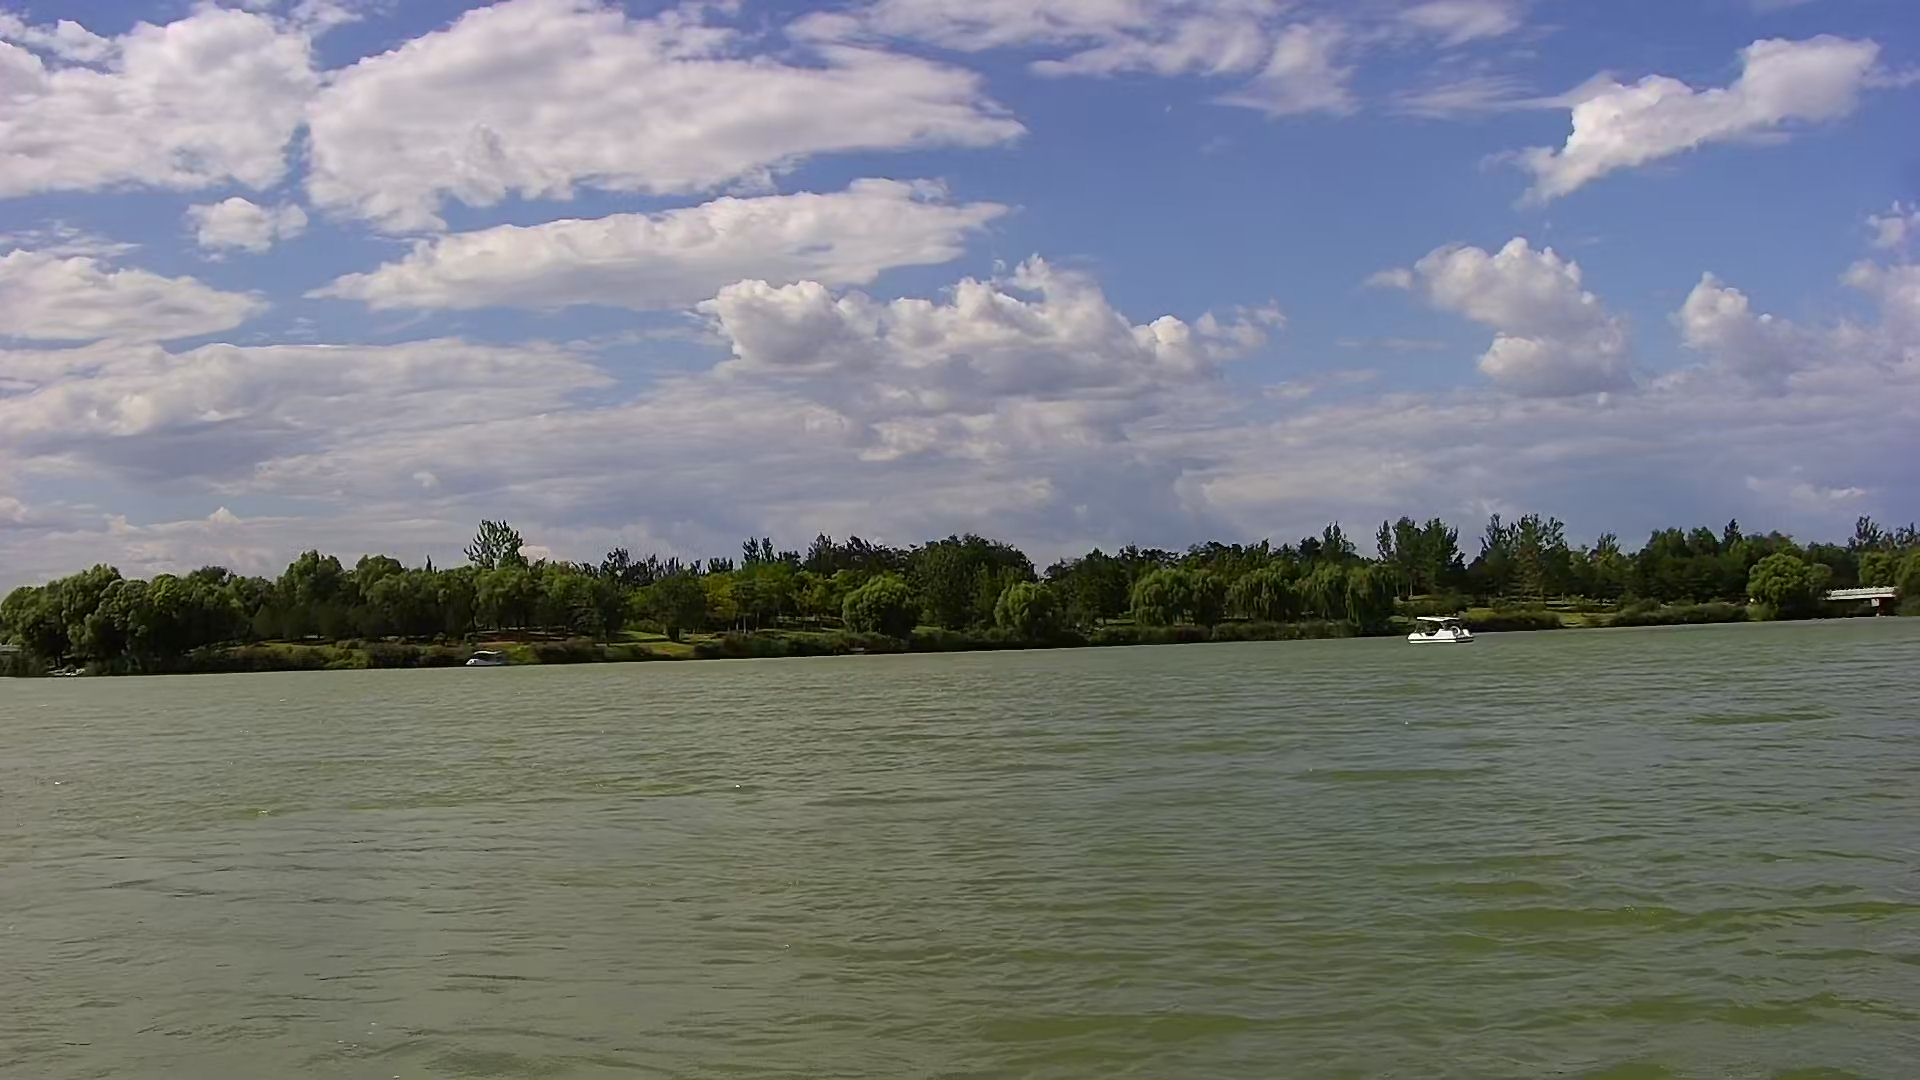boat: (1398, 609, 1478, 649), (463, 642, 513, 669)
